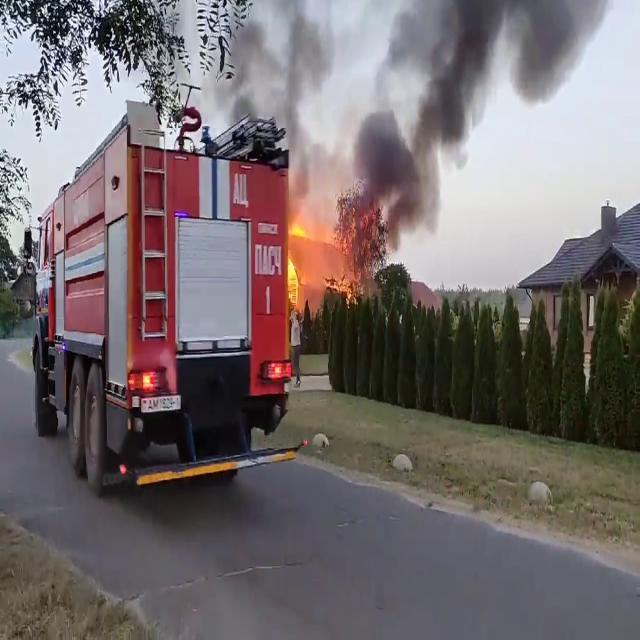Fire: (284, 219, 317, 305)
Smoke: (232, 0, 598, 239)
